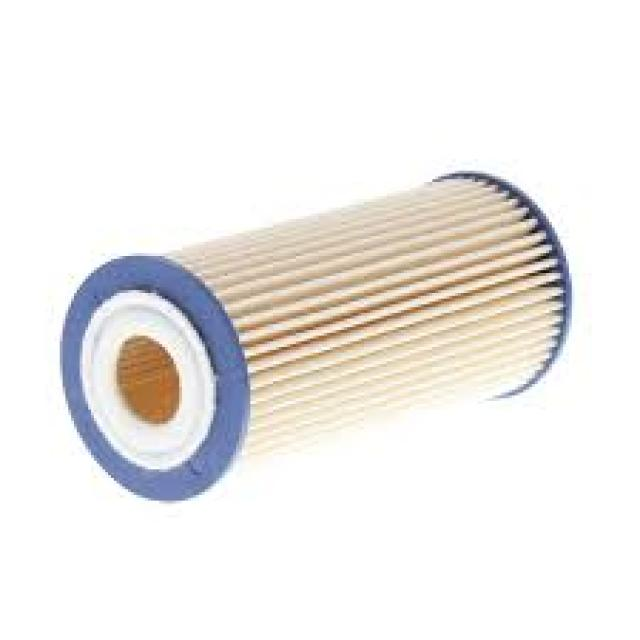oil_filter: (57, 165, 579, 504)
